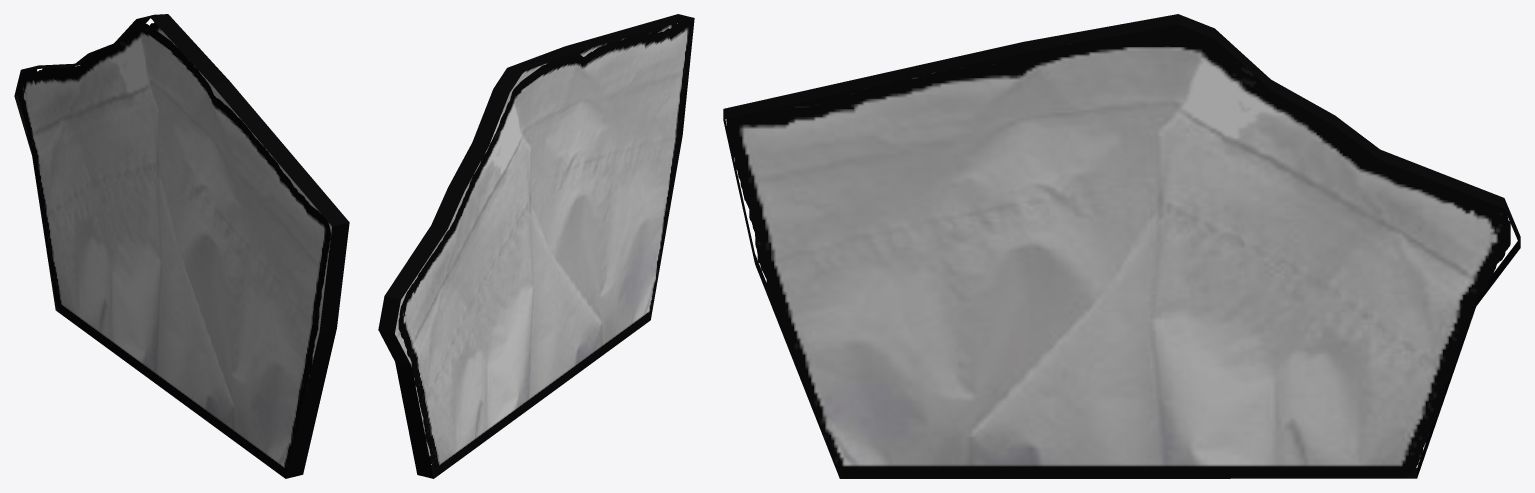
File: Tissues 1.fbx
3 renders of one model, left to right at view 1: azimuth 30°, elevation 25°; view 2: azimuth 150°, elevation 25°; view 3: azimuth 270°, elevation 25°, orthographic. The views are drawn at different scales.
Visible parts, largest first — view 1: Tissue; view 2: Tissue; view 3: Tissue.
Part boxes in pixels (<box>): Tissue: <box>14,14,349,478</box>; Tissue: <box>378,14,694,478</box>; Tissue: <box>723,14,1520,478</box>.
Size of the model in its own units: 1.65 by 32.57 by 51.82.
